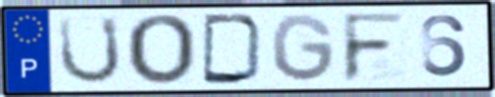6: (418, 13, 471, 81)
D: (200, 12, 268, 87)
F: (340, 11, 409, 85)
G: (269, 12, 338, 85)
O: (123, 12, 199, 87)
U: (56, 14, 124, 86)
